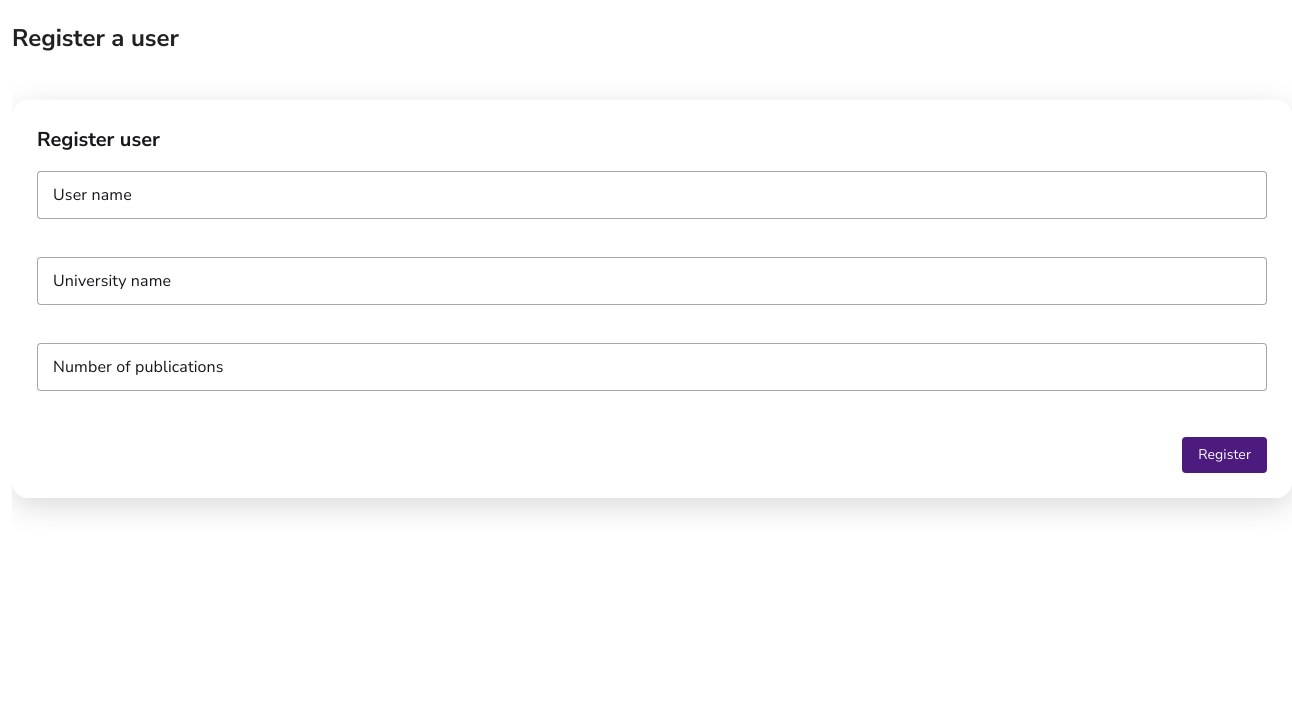
Scenario: Given RegisterUserPage › When registration fails with server field errors › Then the form shows the field error and no UserSummary is rendered
This screenshot has width=1292, height=720.
In the field labelled "User name": [652, 195] box x1=37 y1=171 x2=1267 y2=219, type "Grace Hopper"
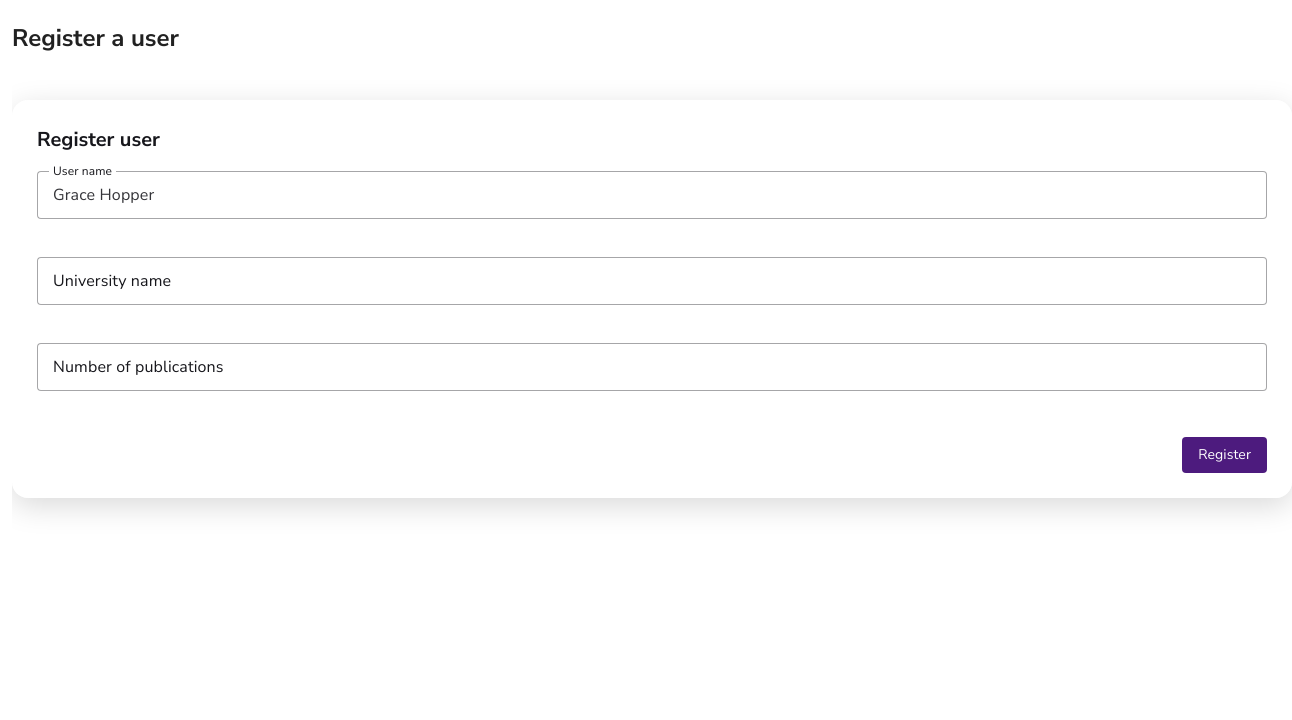
In the field labelled "University name": [652, 281] box x1=37 y1=257 x2=1267 y2=305, type "MIT"
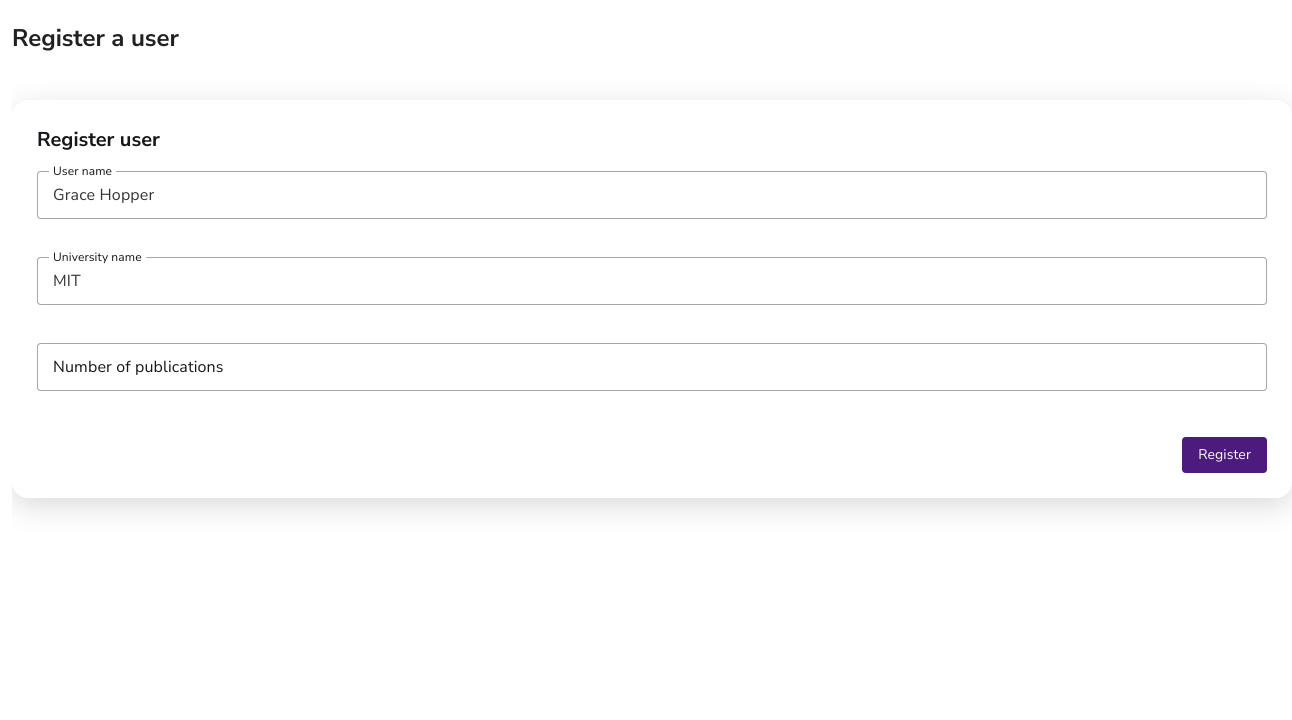
In the number field labelled "Number of publications": [652, 367] box x1=37 y1=343 x2=1267 y2=391, type "12"
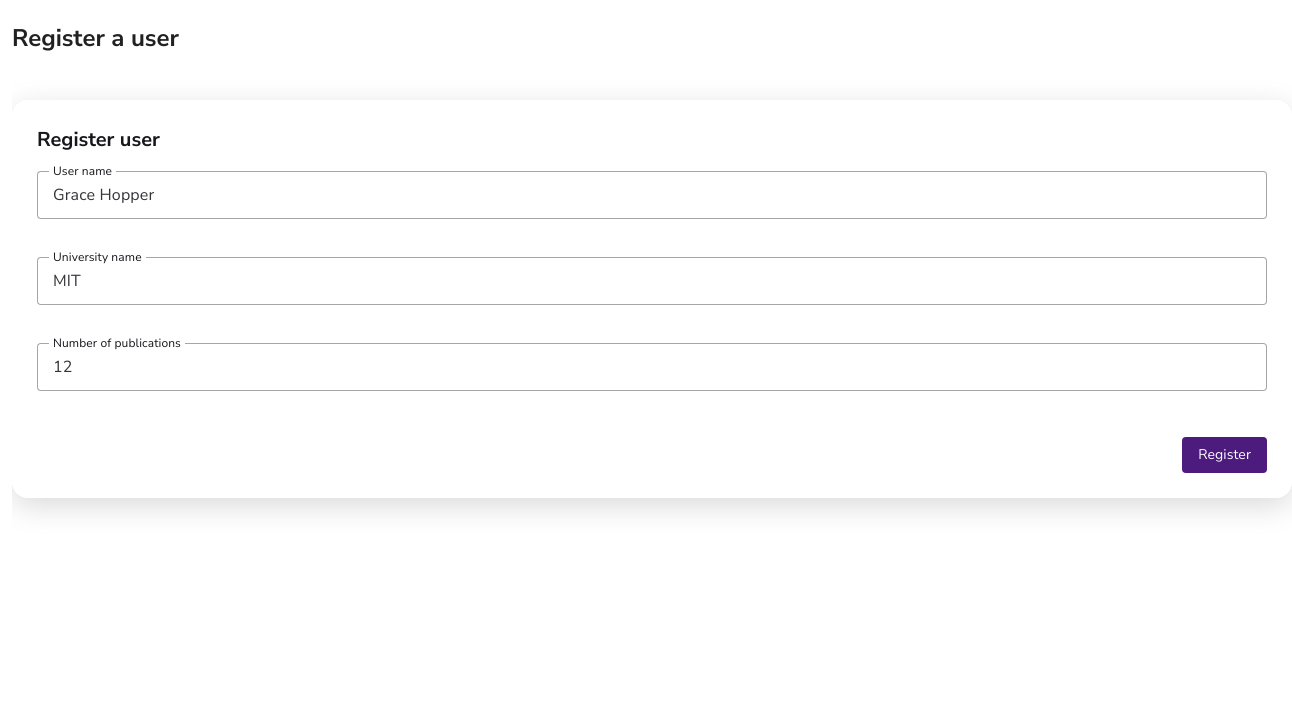
Submit the form, box x1=12 y1=100 x2=1291 y2=498
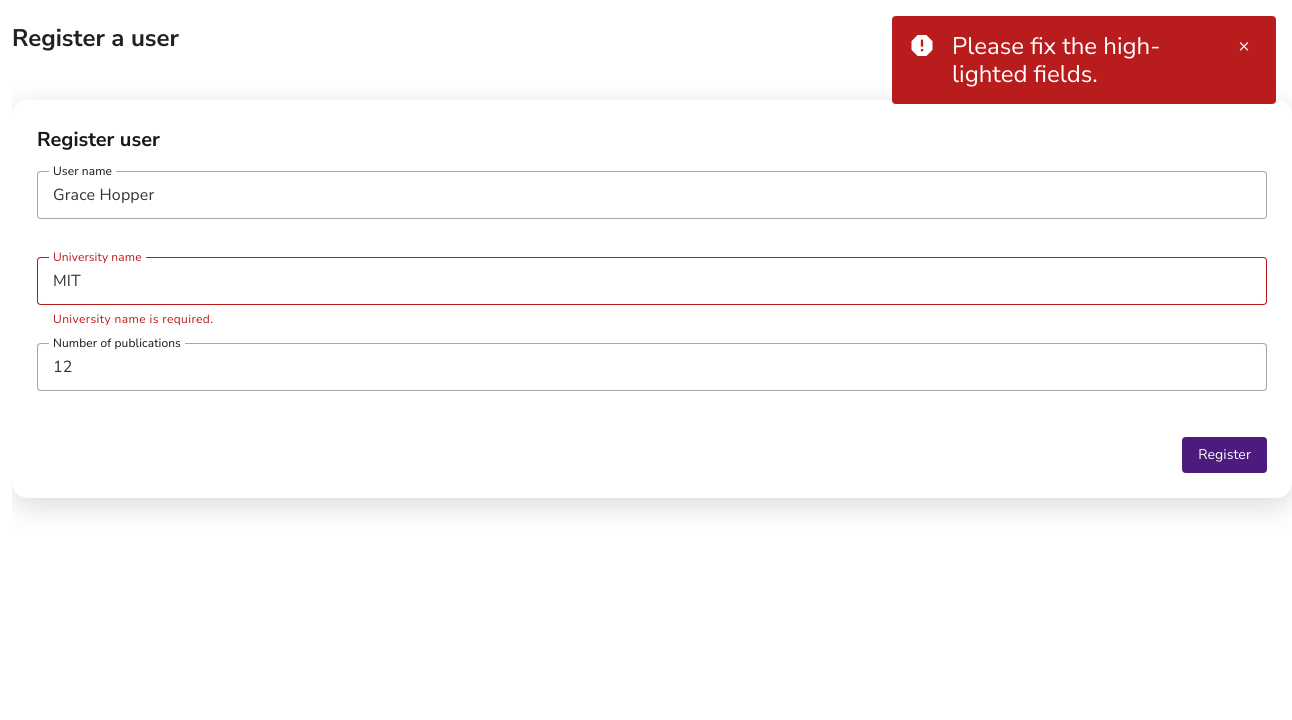
Now the text "University name is required." is shown, box x1=53 y1=311 x2=213 y2=327
